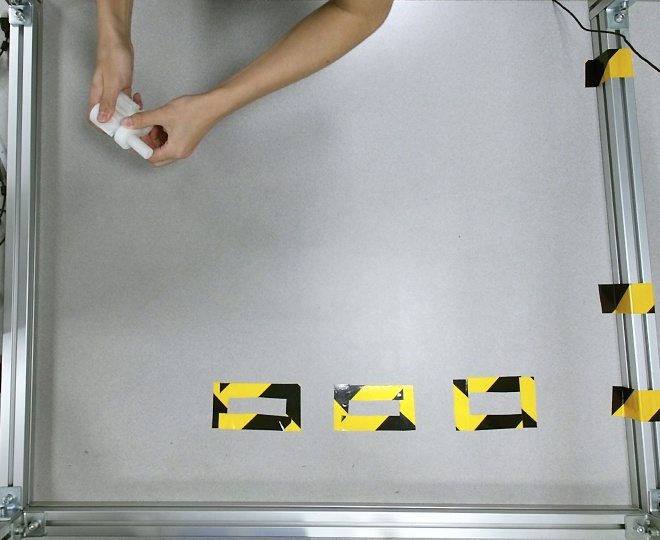stage_3: (88, 91, 153, 159)
